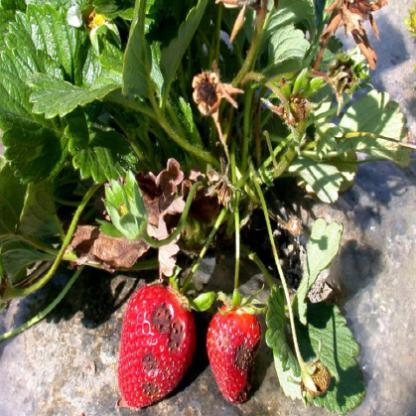Strawberry_Anthracnose_Fruit_Rot: (140, 301, 188, 399), (210, 332, 262, 404)
